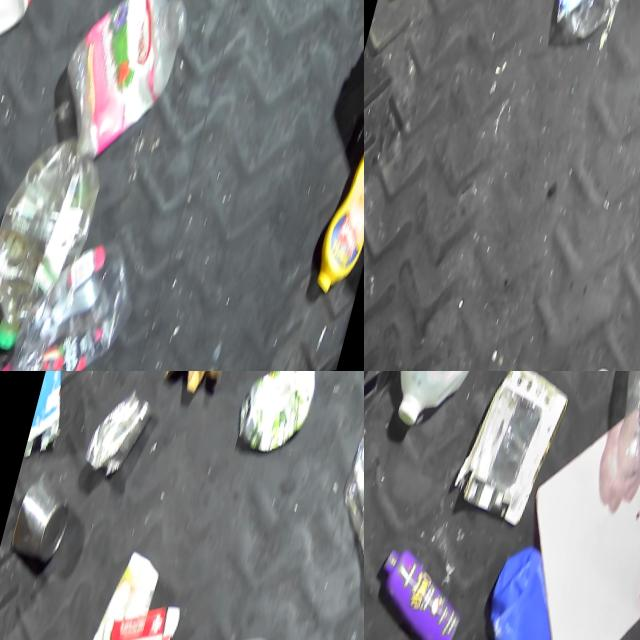can: (226, 371, 324, 473), (80, 379, 158, 489), (1, 470, 80, 572)
milk_jug: (367, 371, 536, 455)
non_white_jug: (459, 538, 603, 640)
plastic_bottle: (0, 125, 111, 371), (0, 218, 147, 371)
